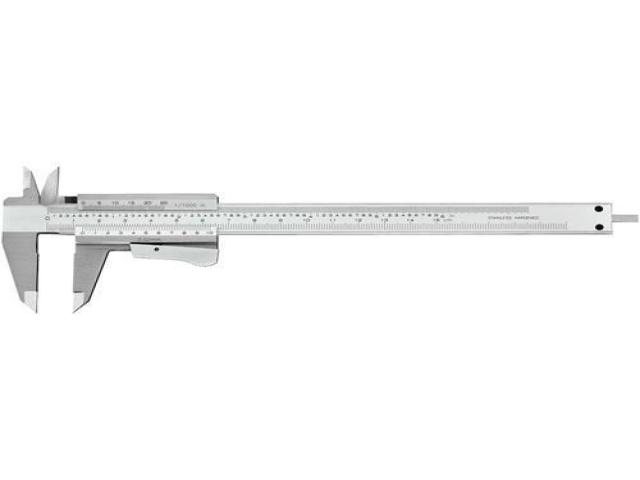Calipers: (2, 168, 640, 311)
